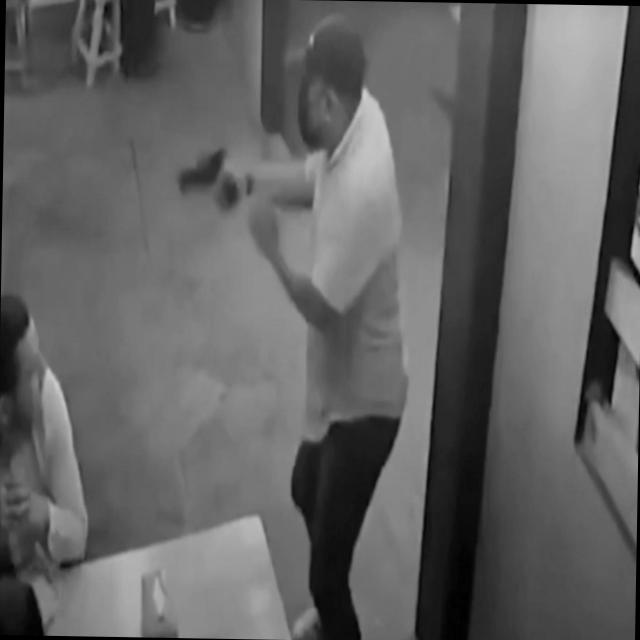gun: (177, 146, 240, 212)
person: (0, 294, 92, 581)
person with a gun: (201, 11, 417, 640)
